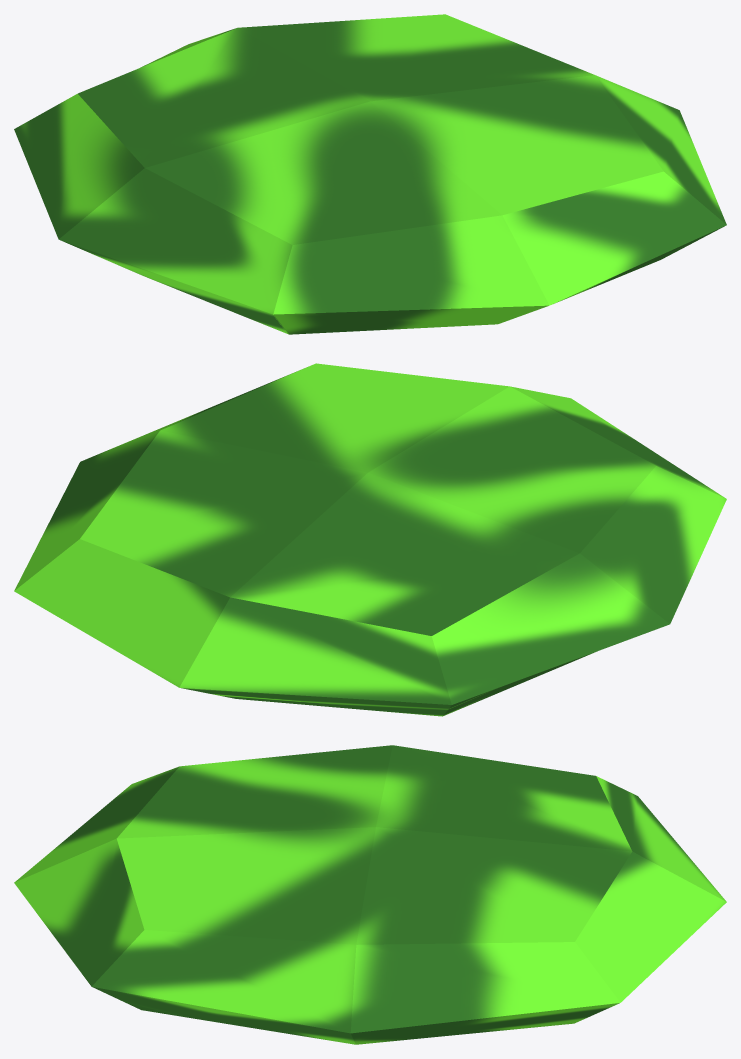
Rendered from lettuce.fbx.
The picture shows the model from 3 angles, top to bottom: view 1: azimuth 30°, elevation 25°; view 2: azimuth 150°, elevation 25°; view 3: azimuth 270°, elevation 25°; orthographic projection. The views are drawn at different scales.
Visible parts, largest first — view 1: Cube; view 2: Cube; view 3: Cube.
Part boxes in pixels (bbox=[...]): Cube: bbox=[14, 14, 726, 334]; Cube: bbox=[14, 363, 726, 716]; Cube: bbox=[14, 745, 726, 1044].
Bounding box in the file's own units: 166 × 37.25 × 179.
Materials: 1 (1 with a texture image).
